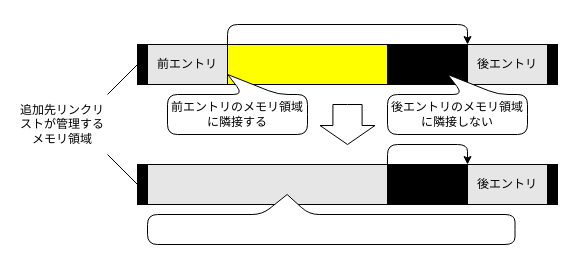
This 575x263 diagram has some shape labels left out. Each missing label, with the box of its shape:
前エントリ +追加: (146, 164, 388, 204)
前エントリのブロック管理情報を編集して追加メモリ領域を結合: (146, 194, 515, 244)
追加: (226, 44, 388, 84)
